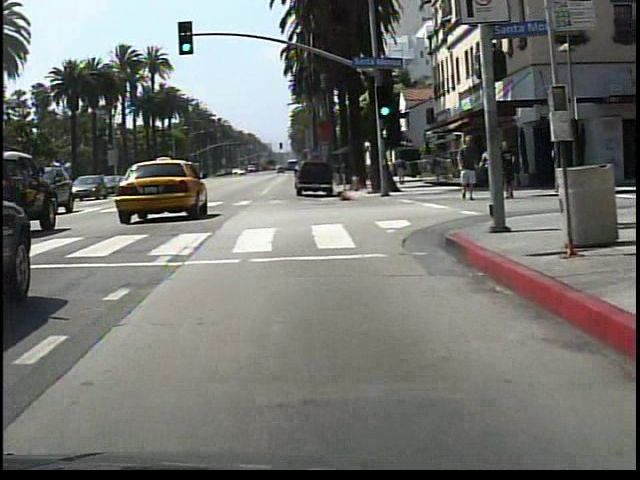person: (452, 133, 480, 205)
